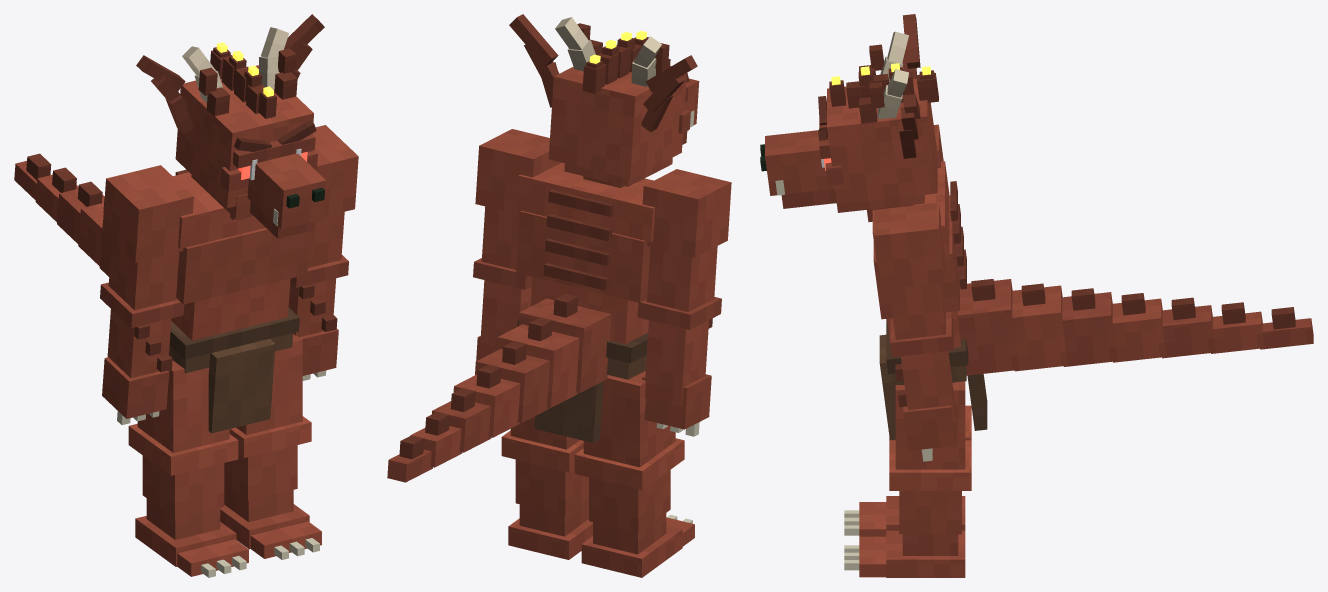
Rendered from lizard_base_v3_evo1.glb.
The picture shows the model from 3 angles, left to right: view 1: azimuth 30°, elevation 25°; view 2: azimuth 150°, elevation 25°; view 3: azimuth 270°, elevation 25°; orthographic projection. The views are drawn at different scales.
Parts seen in each view (by area): view 1: Torso, Head, ArmR, LegR, LegL, ArmL, Root; view 2: Torso, Head, ArmR, LegR, ArmL, LegL; view 3: Torso, Head, ArmL, LegL, LegR, Root.
Boxes of the visible parts, left/top/right/bottom form: Torso: left=14, top=153, right=310, bottom=433; Head: left=136, top=14, right=326, bottom=238; ArmR: left=100, top=165, right=193, bottom=424; LegR: left=128, top=360, right=248, bottom=576; LegL: left=220, top=334, right=321, bottom=558; ArmL: left=288, top=125, right=358, bottom=380; Root: left=201, top=538, right=319, bottom=577; Torso: left=387, top=162, right=655, bottom=482; Head: left=509, top=14, right=699, bottom=187; ArmR: left=637, top=169, right=731, bottom=436; LegR: left=574, top=371, right=694, bottom=577; ArmL: left=473, top=129, right=561, bottom=361; LegL: left=501, top=416, right=592, bottom=559; Torso: left=872, top=161, right=1313, bottom=440; Head: left=760, top=14, right=938, bottom=222; ArmL: left=874, top=203, right=956, bottom=461; LegL: left=859, top=381, right=971, bottom=577; LegR: left=859, top=405, right=971, bottom=536; Root: left=844, top=510, right=859, bottom=570.
Bounding box in the file's own units: 0.78 × 1.73 × 1.75.
25 materials, 25 textured.
